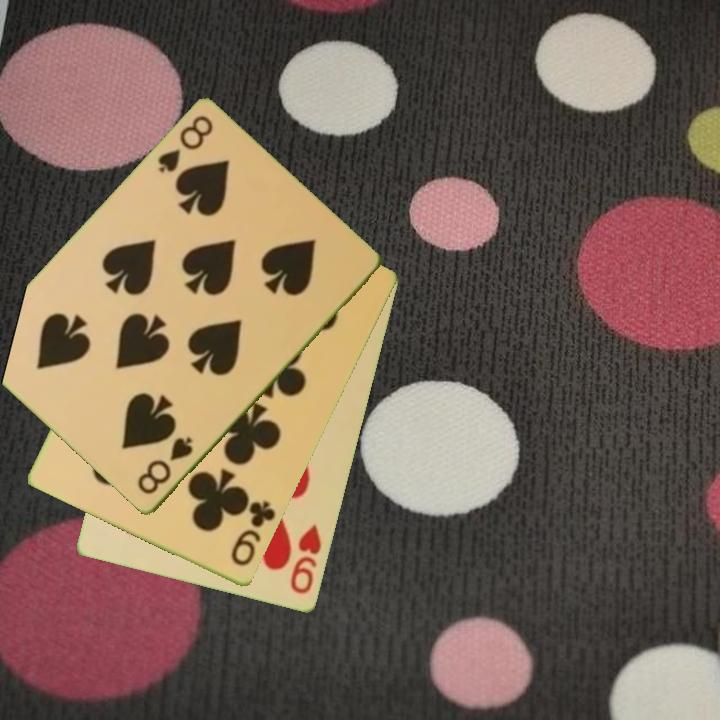8s: (134, 433, 196, 499), (154, 112, 216, 177)
9c: (227, 498, 279, 570)
9h: (287, 521, 325, 597)
